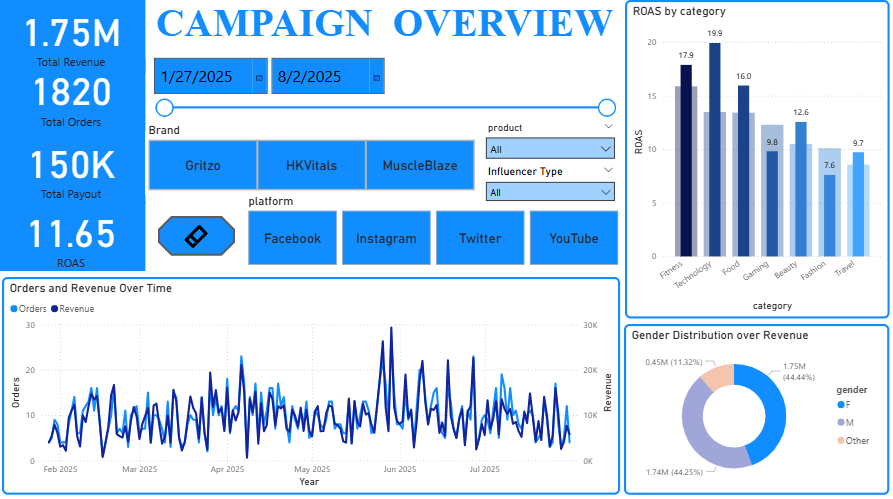

This screenshot's page, from the dashboard's own definition file:
{"tool":"powerbi","page":{"name":"Campaign Overview","canvas":[1280,720],"ordinal":0},"visuals":[{"type":"card","fields":{"Values":["payouts.Total Payout"]},"box":[0,190,211.7,105],"z":0},{"type":"card","fields":{"Values":["tracking_data.ROAS"]},"box":[0,291.7,211.7,100],"z":1000},{"type":"columnChart","fields":{"Category":["influencers.category"],"Y":["tracking_data.ROAS"]},"box":[897,4.5,377.6,455.2],"z":2000},{"type":"lineChart","title":"Orders and Revenue Over Time","fields":{"Y2":["Sum(tracking_data.revenue)"],"Category":["tracking_data.date.Variation.Date Hierarchy.Year","tracking_data.date.Variation.Date Hierarchy.Month","tracking_data.date.Variation.Date Hierarchy.Day"],"Y":["Sum(tracking_data.orders)"]},"box":[0,388.1,892.5,331.3],"z":3000},{"type":"donutChart","title":"Gender Distribution over Revenue","fields":{"Category":["influencers.gender"],"Y":["tracking_data.Total Revenue"]},"box":[896,466.6,384,253.2],"z":4000},{"type":"slicer","fields":{"Values":["tracking_data.date"]},"box":[211.7,76.7,681.7,103.3],"z":5000},{"type":"slicer","fields":{"Values":["tracking_data.product"]},"box":[688.1,173.1,204.5,61.2],"z":6000},{"type":"advancedSlicerVisual","fields":{"Values":["tracking_data.Brand"]},"box":[211.7,180,476.7,101.7],"z":7000},{"type":"textbox","box":[211.7,0,685,76.7],"z":8000},{"type":"actionButton","box":[230,313.3,110,56.7],"z":9000},{"type":"advancedSlicerVisual","fields":{"Values":["influencers.platform"]},"box":[354,281,538.1,106.3],"z":10000},{"type":"card","fields":{"Values":["Sum(tracking_data.orders)"]},"box":[0,88.3,211.7,101.7],"z":11000},{"type":"card","fields":{"Values":["Sum(tracking_data.revenue)"]},"box":[0,0,211.7,108.3],"z":12000},{"type":"slicer","fields":{"Values":["influencers.Influencer Tier"]},"box":[688.1,234.3,204.5,67.2],"z":13000}]}

Visuals, with their boxes in screenshot pixels (x1, y1, x2, y2), scaled from the page's 1280x720 canvas onto the 893x499 screenshot:
card - payouts.Total Payout: x1=0, y1=132, x2=148, y2=204
card - tracking_data.ROAS: x1=0, y1=202, x2=148, y2=271
columnChart - influencers.category x tracking_data.ROAS: x1=626, y1=3, x2=889, y2=319
"Orders and Revenue Over Time" lineChart: x1=0, y1=269, x2=623, y2=498
"Gender Distribution over Revenue" donutChart: x1=625, y1=323, x2=892, y2=498
slicer - tracking_data.date: x1=148, y1=53, x2=623, y2=125
slicer - tracking_data.product: x1=480, y1=120, x2=623, y2=162
advancedSlicerVisual - tracking_data.Brand: x1=148, y1=125, x2=480, y2=195
textbox: x1=148, y1=0, x2=626, y2=53
actionButton: x1=160, y1=217, x2=237, y2=256
advancedSlicerVisual - influencers.platform: x1=247, y1=195, x2=622, y2=268
card - Sum(tracking_data.orders): x1=0, y1=61, x2=148, y2=132
card - Sum(tracking_data.revenue): x1=0, y1=0, x2=148, y2=75
slicer - influencers.Influencer Tier: x1=480, y1=162, x2=623, y2=209
